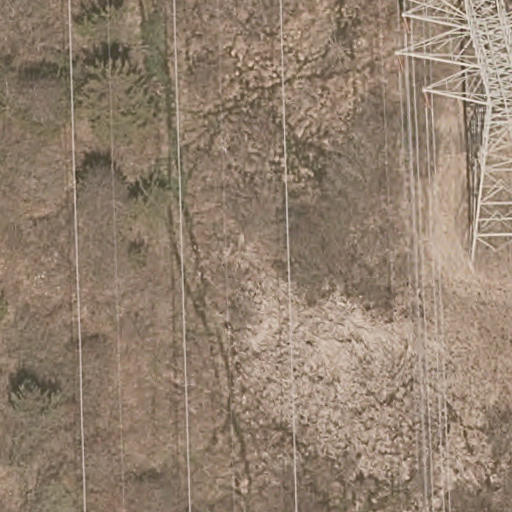TT: (393, 1, 512, 268)
